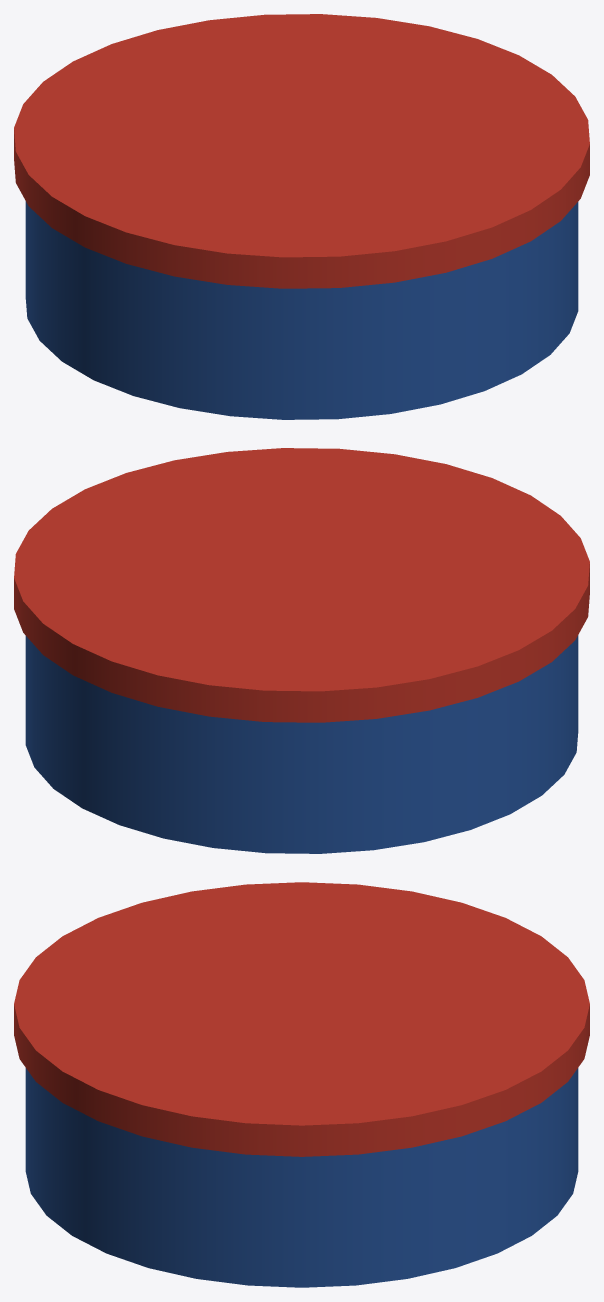
Rendered from cookie_tin.glb.
3 renders of one model, top to bottom at view 1: azimuth 30°, elevation 25°; view 2: azimuth 150°, elevation 25°; view 3: azimuth 270°, elevation 25°, orthographic.
Parts seen in each view (by area): view 1: lid, tin; view 2: lid, tin; view 3: lid, tin.
Boxes of the visible parts, x1,y1,x2,y2 form: lid: [14, 14, 589, 288]; tin: [25, 201, 578, 419]; lid: [14, 448, 589, 722]; tin: [25, 635, 578, 853]; lid: [14, 882, 589, 1156]; tin: [25, 1068, 578, 1287].
Bounding box in the file's own units: 0.25 × 0.08 × 0.25.
